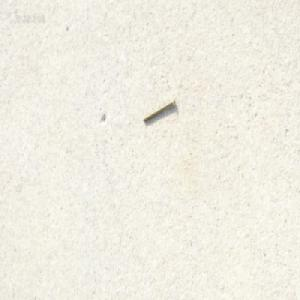Bolt: (142, 96, 175, 123)
